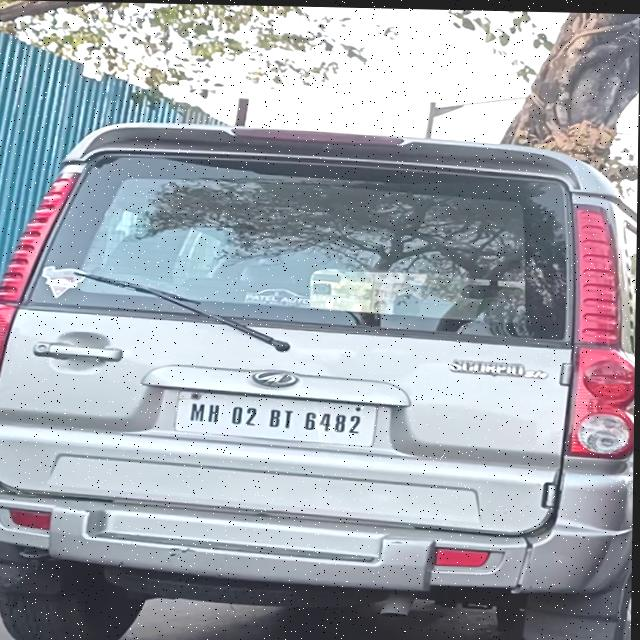plate: (173, 388, 379, 445)
